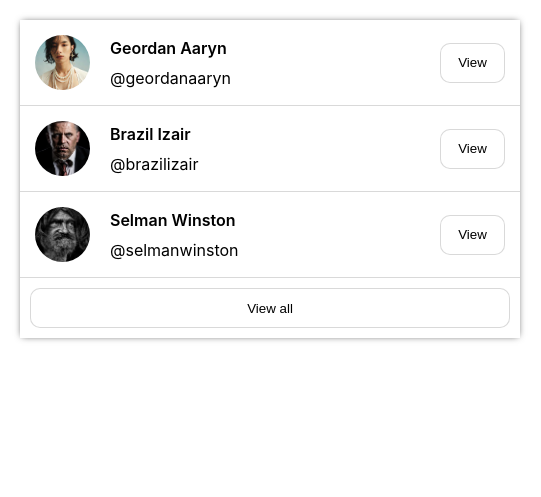
Test: shows details window
The image size is (541, 497).
Click the button "View" in the row of "@geordanaaryn" at x=472, y=62, box [440,42,505,82]
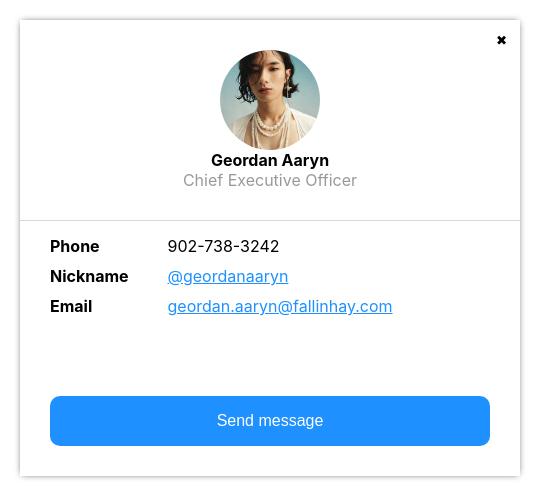
Check: the text "902-738-3242" is shown, box [168,236,280,256]
